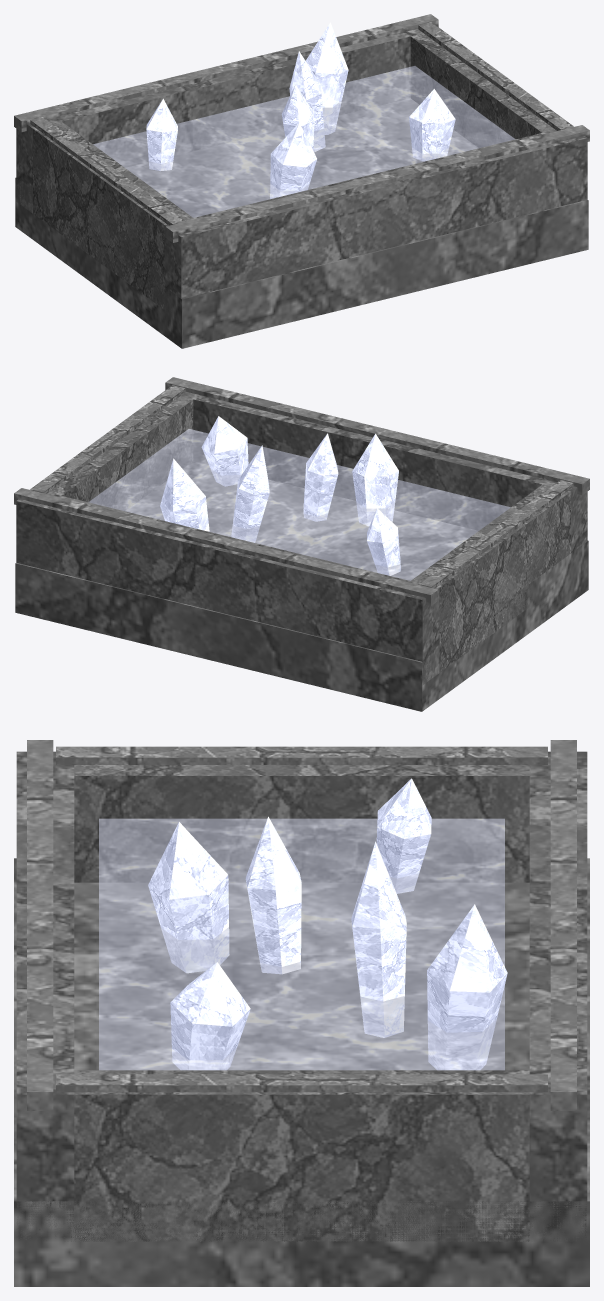
File: crystal-bed-storm.glb
3 views of the same model, one above another, from view 1: azimuth 30°, elevation 25°; view 2: azimuth 150°, elevation 25°; view 3: azimuth 270°, elevation 25° (orthographic). The views are drawn at different scales.
Parts seen in each view (by area): view 1: floor, north-wall, mineral-water, south-wall, west-wall, east-wall, north-band, south-band, east-band, west-band, growth-5, growth-1 (+4 smaller); view 2: floor, south-wall, mineral-water, north-wall, west-wall, east-wall, south-band, north-band, growth-1, east-band, west-band, growth-2 (+4 smaller); view 3: floor, east-wall, mineral-water, west-wall, south-wall, north-wall, north-band, south-band, growth-5, west-band, east-band, growth-1 (+4 smaller).
Boxes of the visible parts, box(x1,y1,x2,y2) form: floor: box(15, 98, 588, 348); north-wall: box(164, 129, 587, 311); mineral-water: box(93, 66, 514, 217); south-wall: box(16, 29, 423, 213); west-wall: box(33, 121, 192, 309); east-wall: box(410, 33, 554, 147); north-band: box(165, 125, 589, 242); south-band: box(14, 14, 438, 132); east-band: box(418, 22, 573, 130); west-band: box(30, 117, 185, 225); growth-5: box(305, 22, 348, 134); growth-1: box(270, 122, 316, 198); floor: box(15, 461, 588, 711); south-wall: box(16, 492, 439, 684); mineral-water: box(89, 429, 510, 580); north-wall: box(180, 392, 587, 552); west-wall: box(411, 484, 570, 672); east-wall: box(49, 396, 193, 510); south-band: box(14, 488, 438, 605); north-band: box(165, 377, 589, 495); growth-1: box(352, 433, 398, 525); east-band: box(30, 385, 185, 493); west-band: box(418, 480, 573, 588); growth-2: box(231, 445, 269, 542); floor: box(14, 858, 589, 1286); east-wall: box(74, 1070, 529, 1241); mineral-water: box(99, 818, 504, 1070); west-wall: box(74, 765, 529, 882); south-wall: box(529, 751, 587, 1241); north-wall: box(16, 751, 74, 1241); north-band: box(27, 740, 53, 1110); south-band: box(550, 740, 576, 1110); growth-5: box(427, 904, 507, 1069); west-band: box(56, 746, 547, 764); east-band: box(56, 1074, 547, 1092); growth-1: box(148, 822, 229, 972).
Bounding box in the file's own units: 3.18 × 1.22 × 2.2.
4 materials, 4 textured.
